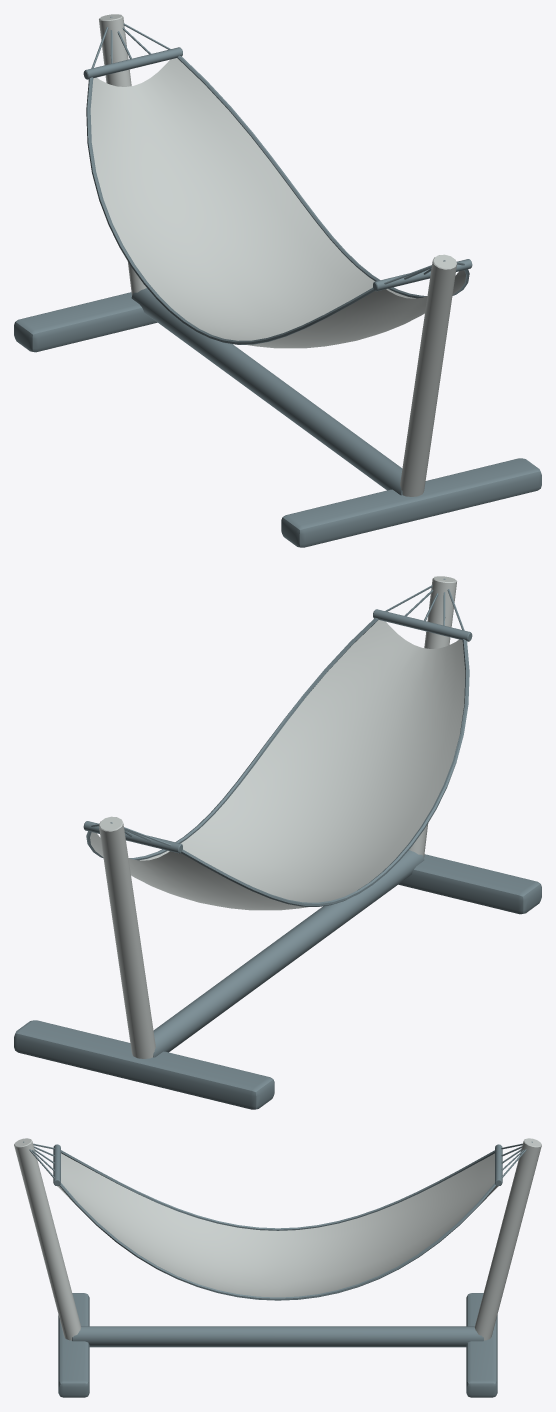
The model's file is hammock.glb.
The picture shows the model from 3 angles, top to bottom: view 1: azimuth 30°, elevation 25°; view 2: azimuth 150°, elevation 25°; view 3: azimuth 270°, elevation 25°; orthographic projection. The views are drawn at different scales.
Parts seen in each view (by area): view 1: sagging_fabric, frame_foot.001, bottom_frame, angled_support.001, frame_foot, bound_edge, angled_support, bound_edge.001, spreader_bar, spreader_bar.001; view 2: sagging_fabric, frame_foot, bottom_frame, angled_support, frame_foot.001, bound_edge, angled_support.001, bound_edge.001, spreader_bar.001, spreader_bar; view 3: sagging_fabric, bottom_frame, angled_support, angled_support.001, frame_foot, frame_foot.001, bound_edge.001, bound_edge.
Boxes of the visible parts, bbox=[...] form: sagging_fabric: bbox=[90, 58, 465, 348]; frame_foot.001: bbox=[281, 458, 541, 547]; bottom_frame: bbox=[131, 288, 402, 495]; angled_support.001: bbox=[400, 254, 456, 496]; frame_foot: bbox=[14, 292, 157, 352]; bound_edge: bbox=[86, 77, 374, 344]; angled_support: bbox=[99, 14, 146, 295]; bound_edge.001: bbox=[177, 55, 469, 298]; spreader_bar: bbox=[83, 47, 182, 79]; spreader_bar.001: bbox=[373, 259, 472, 291]; sagging_fabric: bbox=[90, 620, 465, 910]; frame_foot: bbox=[14, 1020, 274, 1109]; bottom_frame: bbox=[153, 850, 424, 1057]; angled_support: bbox=[99, 816, 155, 1058]; frame_foot.001: bbox=[398, 854, 541, 914]; bound_edge: bbox=[181, 639, 469, 906]; angled_support.001: bbox=[409, 576, 456, 857]; bound_edge.001: bbox=[86, 618, 378, 860]; spreader_bar.001: bbox=[373, 609, 472, 641]; spreader_bar: bbox=[83, 821, 182, 853]; sagging_fabric: bbox=[57, 1153, 498, 1297]; bottom_frame: bbox=[72, 1326, 483, 1347]; angled_support: bbox=[474, 1138, 541, 1340]; angled_support.001: bbox=[14, 1138, 81, 1340]; frame_foot: bbox=[466, 1293, 497, 1397]; frame_foot.001: bbox=[58, 1293, 89, 1397]; bound_edge.001: bbox=[59, 1183, 496, 1300]; bound_edge: bbox=[61, 1150, 494, 1230].
Size of the model in its own units: 1.03 by 1.12 by 2.51.
